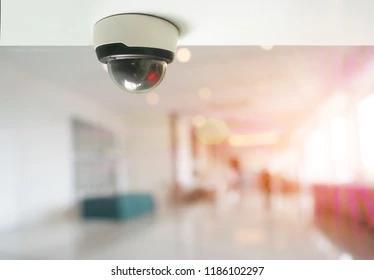360-Cam: (89, 11, 185, 98)
